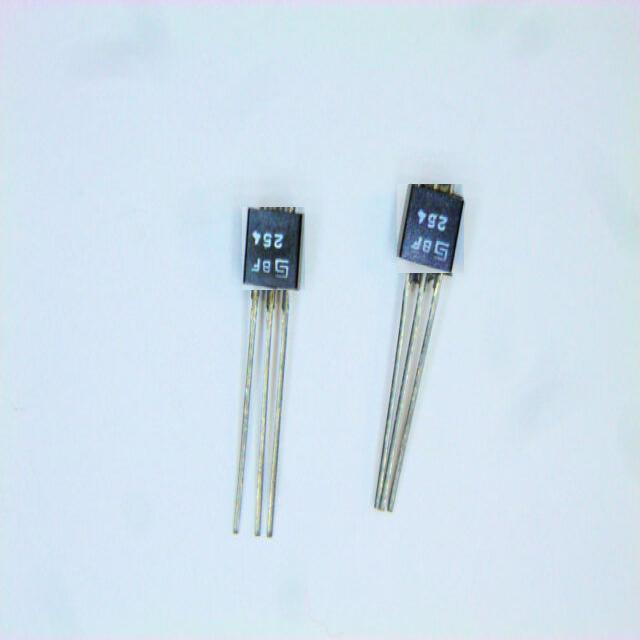Transistor: (344, 159, 486, 533), (218, 193, 316, 556)
